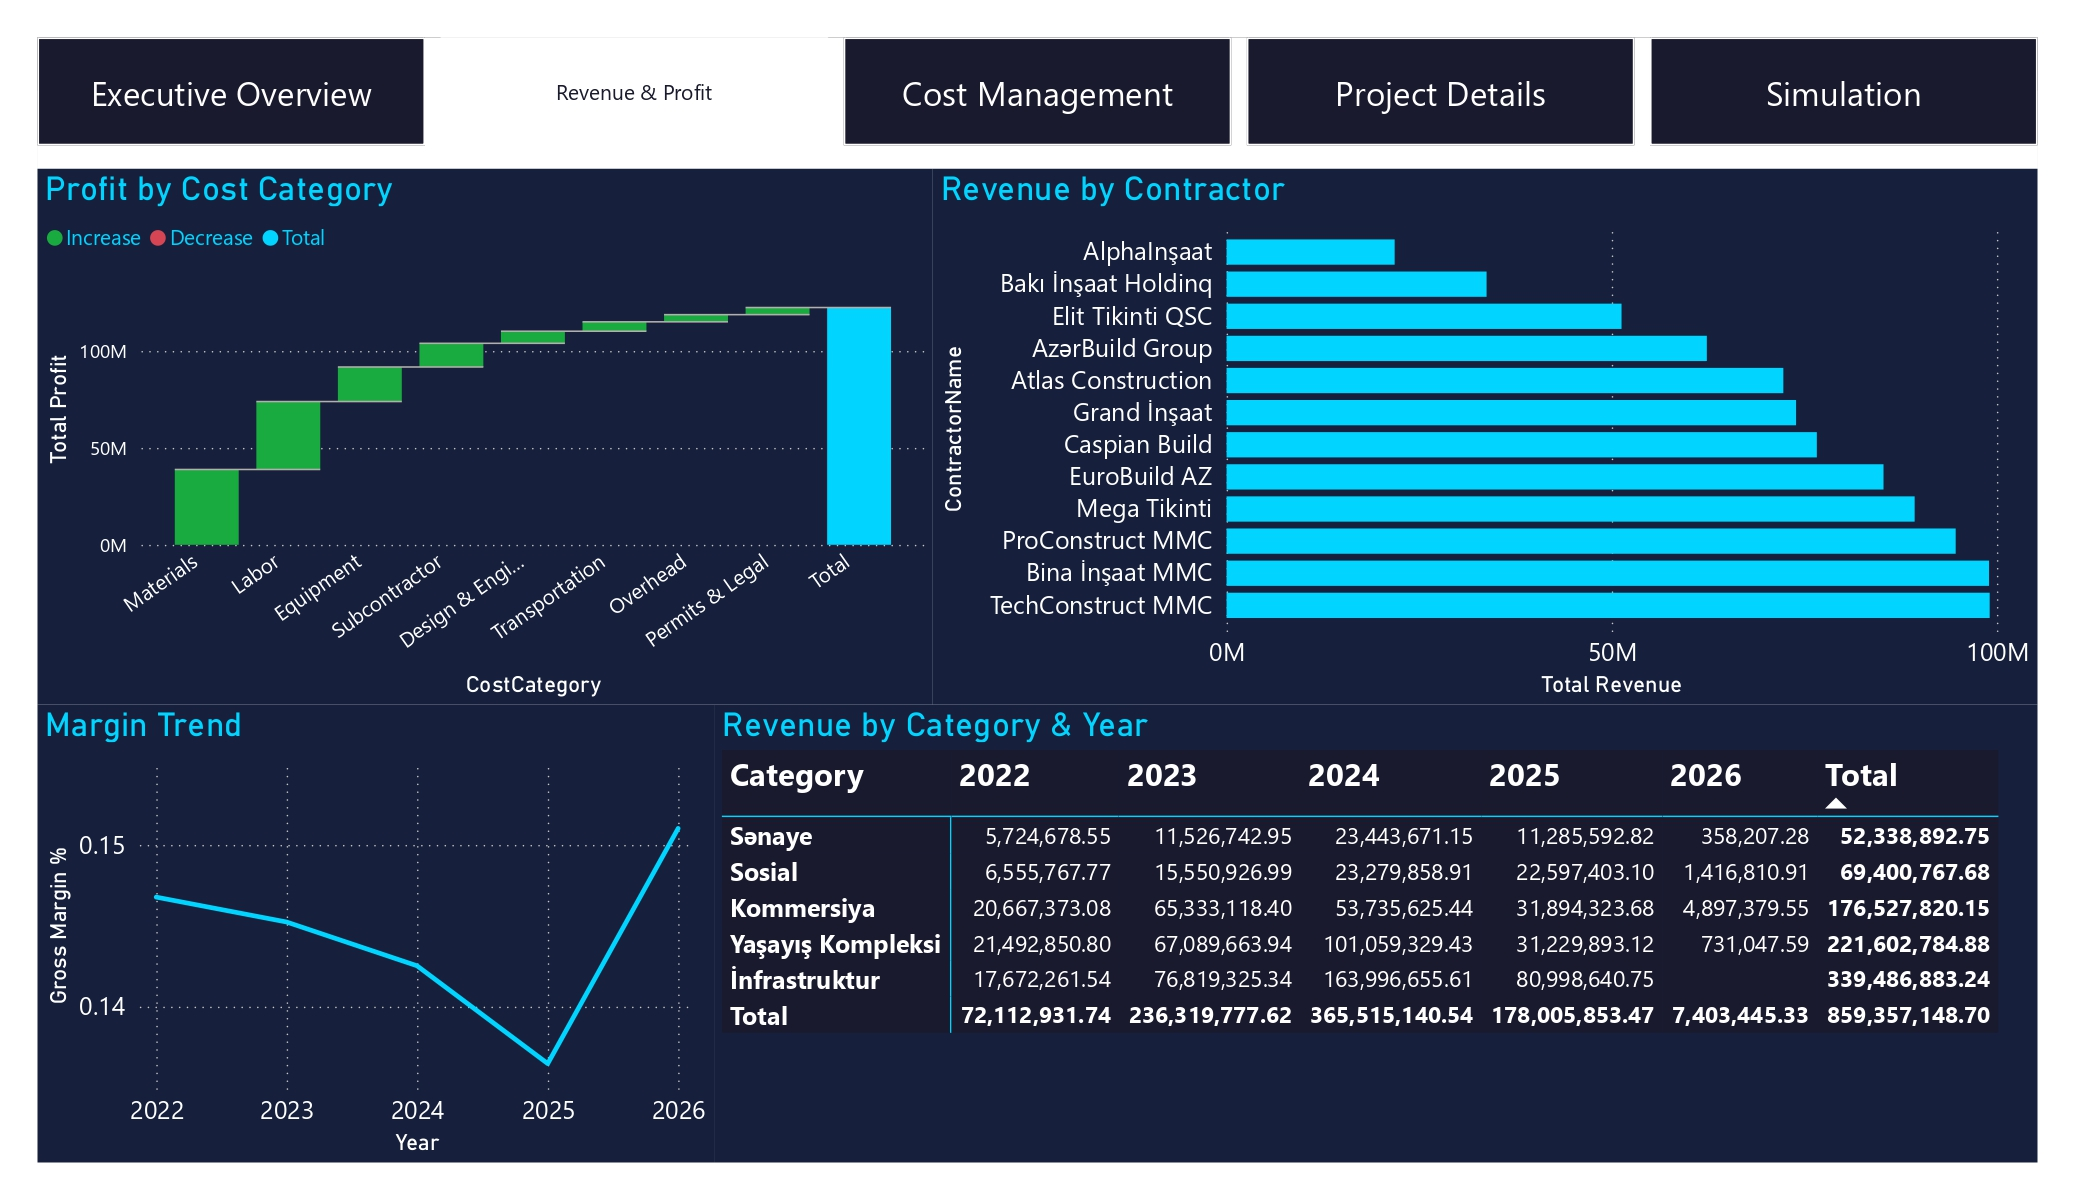

This screenshot's page, from the dashboard's own definition file:
{"tool":"powerbi","page":{"name":"Revenue & Profit","canvas":[1280,720],"ordinal":1},"visuals":[{"type":"pageNavigator","box":[0,0,1280,68.9],"z":0},{"type":"waterfallChart","title":"Profit by Cost Category","fields":{"Category":["fact_financials.CostCategory"],"Y":["_Measures.Total Profit"]},"box":[0,84.3,572.9,342.9],"z":1000},{"type":"lineChart","title":"Margin Trend","fields":{"Category":["fact_financials.Date.Variation.Date Hierarchy.Year"],"Y":["_Measures.Gross Margin %"]},"box":[0,427.1,432.9,292.9],"z":2000},{"type":"barChart","title":"Revenue by Contractor","fields":{"Category":["dim_contractors.ContractorName"],"Y":["_Measures.Total Revenue"]},"box":[572.9,84.3,707.1,342.9],"z":3000},{"type":"pivotTable","title":"Revenue by Category & Year","fields":{"Rows":["dim_projects_v2.Category"],"Columns":["fact_financials.Date.Variation.Date Hierarchy.Year"],"Values":["_Measures.Total Revenue"]},"box":[432.9,427.1,847.1,292.9],"z":4000}]}

Visuals, with their boxes on the page's 1280x720 design canvas (x1, y1, x2, y2). These are canvas units, not pixel positions in the 2075x1200 screenshot, which may show the page scaled, cropped or inside an application window:
pageNavigator: {"left": 0, "top": 0, "right": 1280, "bottom": 69}
"Profit by Cost Category" waterfallChart: {"left": 0, "top": 84, "right": 573, "bottom": 427}
"Margin Trend" lineChart: {"left": 0, "top": 427, "right": 433, "bottom": 720}
"Revenue by Contractor" barChart: {"left": 573, "top": 84, "right": 1280, "bottom": 427}
"Revenue by Category & Year" pivotTable: {"left": 433, "top": 427, "right": 1280, "bottom": 720}
